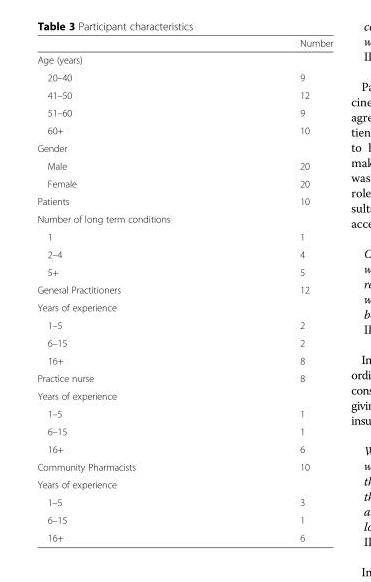table: (36, 37, 332, 542)
table column: (36, 37, 217, 542), (217, 37, 332, 542)
table column header: (36, 37, 332, 51)
table projected row header: (36, 209, 332, 227), (36, 298, 332, 316), (36, 386, 332, 404), (36, 475, 332, 493), (36, 51, 332, 68), (36, 139, 332, 156)
table row: (36, 85, 332, 103), (36, 103, 332, 121), (36, 121, 332, 139), (36, 156, 332, 174), (36, 174, 332, 192), (36, 209, 332, 227), (36, 227, 332, 245), (36, 262, 332, 280), (36, 280, 332, 298), (36, 298, 332, 316), (36, 333, 332, 351), (36, 351, 332, 369), (36, 386, 332, 404), (36, 404, 332, 422), (36, 439, 332, 457), (36, 457, 332, 475), (36, 475, 332, 493), (36, 510, 332, 528), (36, 51, 332, 68), (36, 68, 332, 85), (36, 139, 332, 156), (36, 192, 332, 209), (36, 245, 332, 262), (36, 316, 332, 333), (36, 369, 332, 386), (36, 422, 332, 439), (36, 493, 332, 510), (36, 37, 332, 51), (36, 528, 332, 542)
